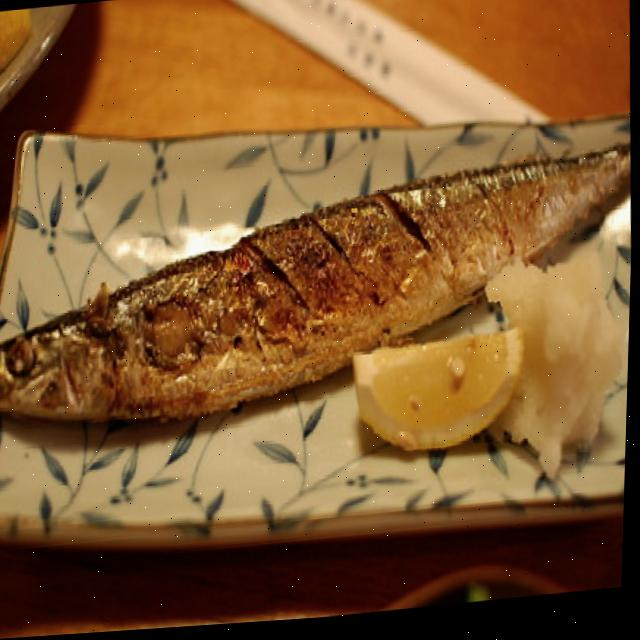熟制海鲜: (0, 146, 636, 408)
